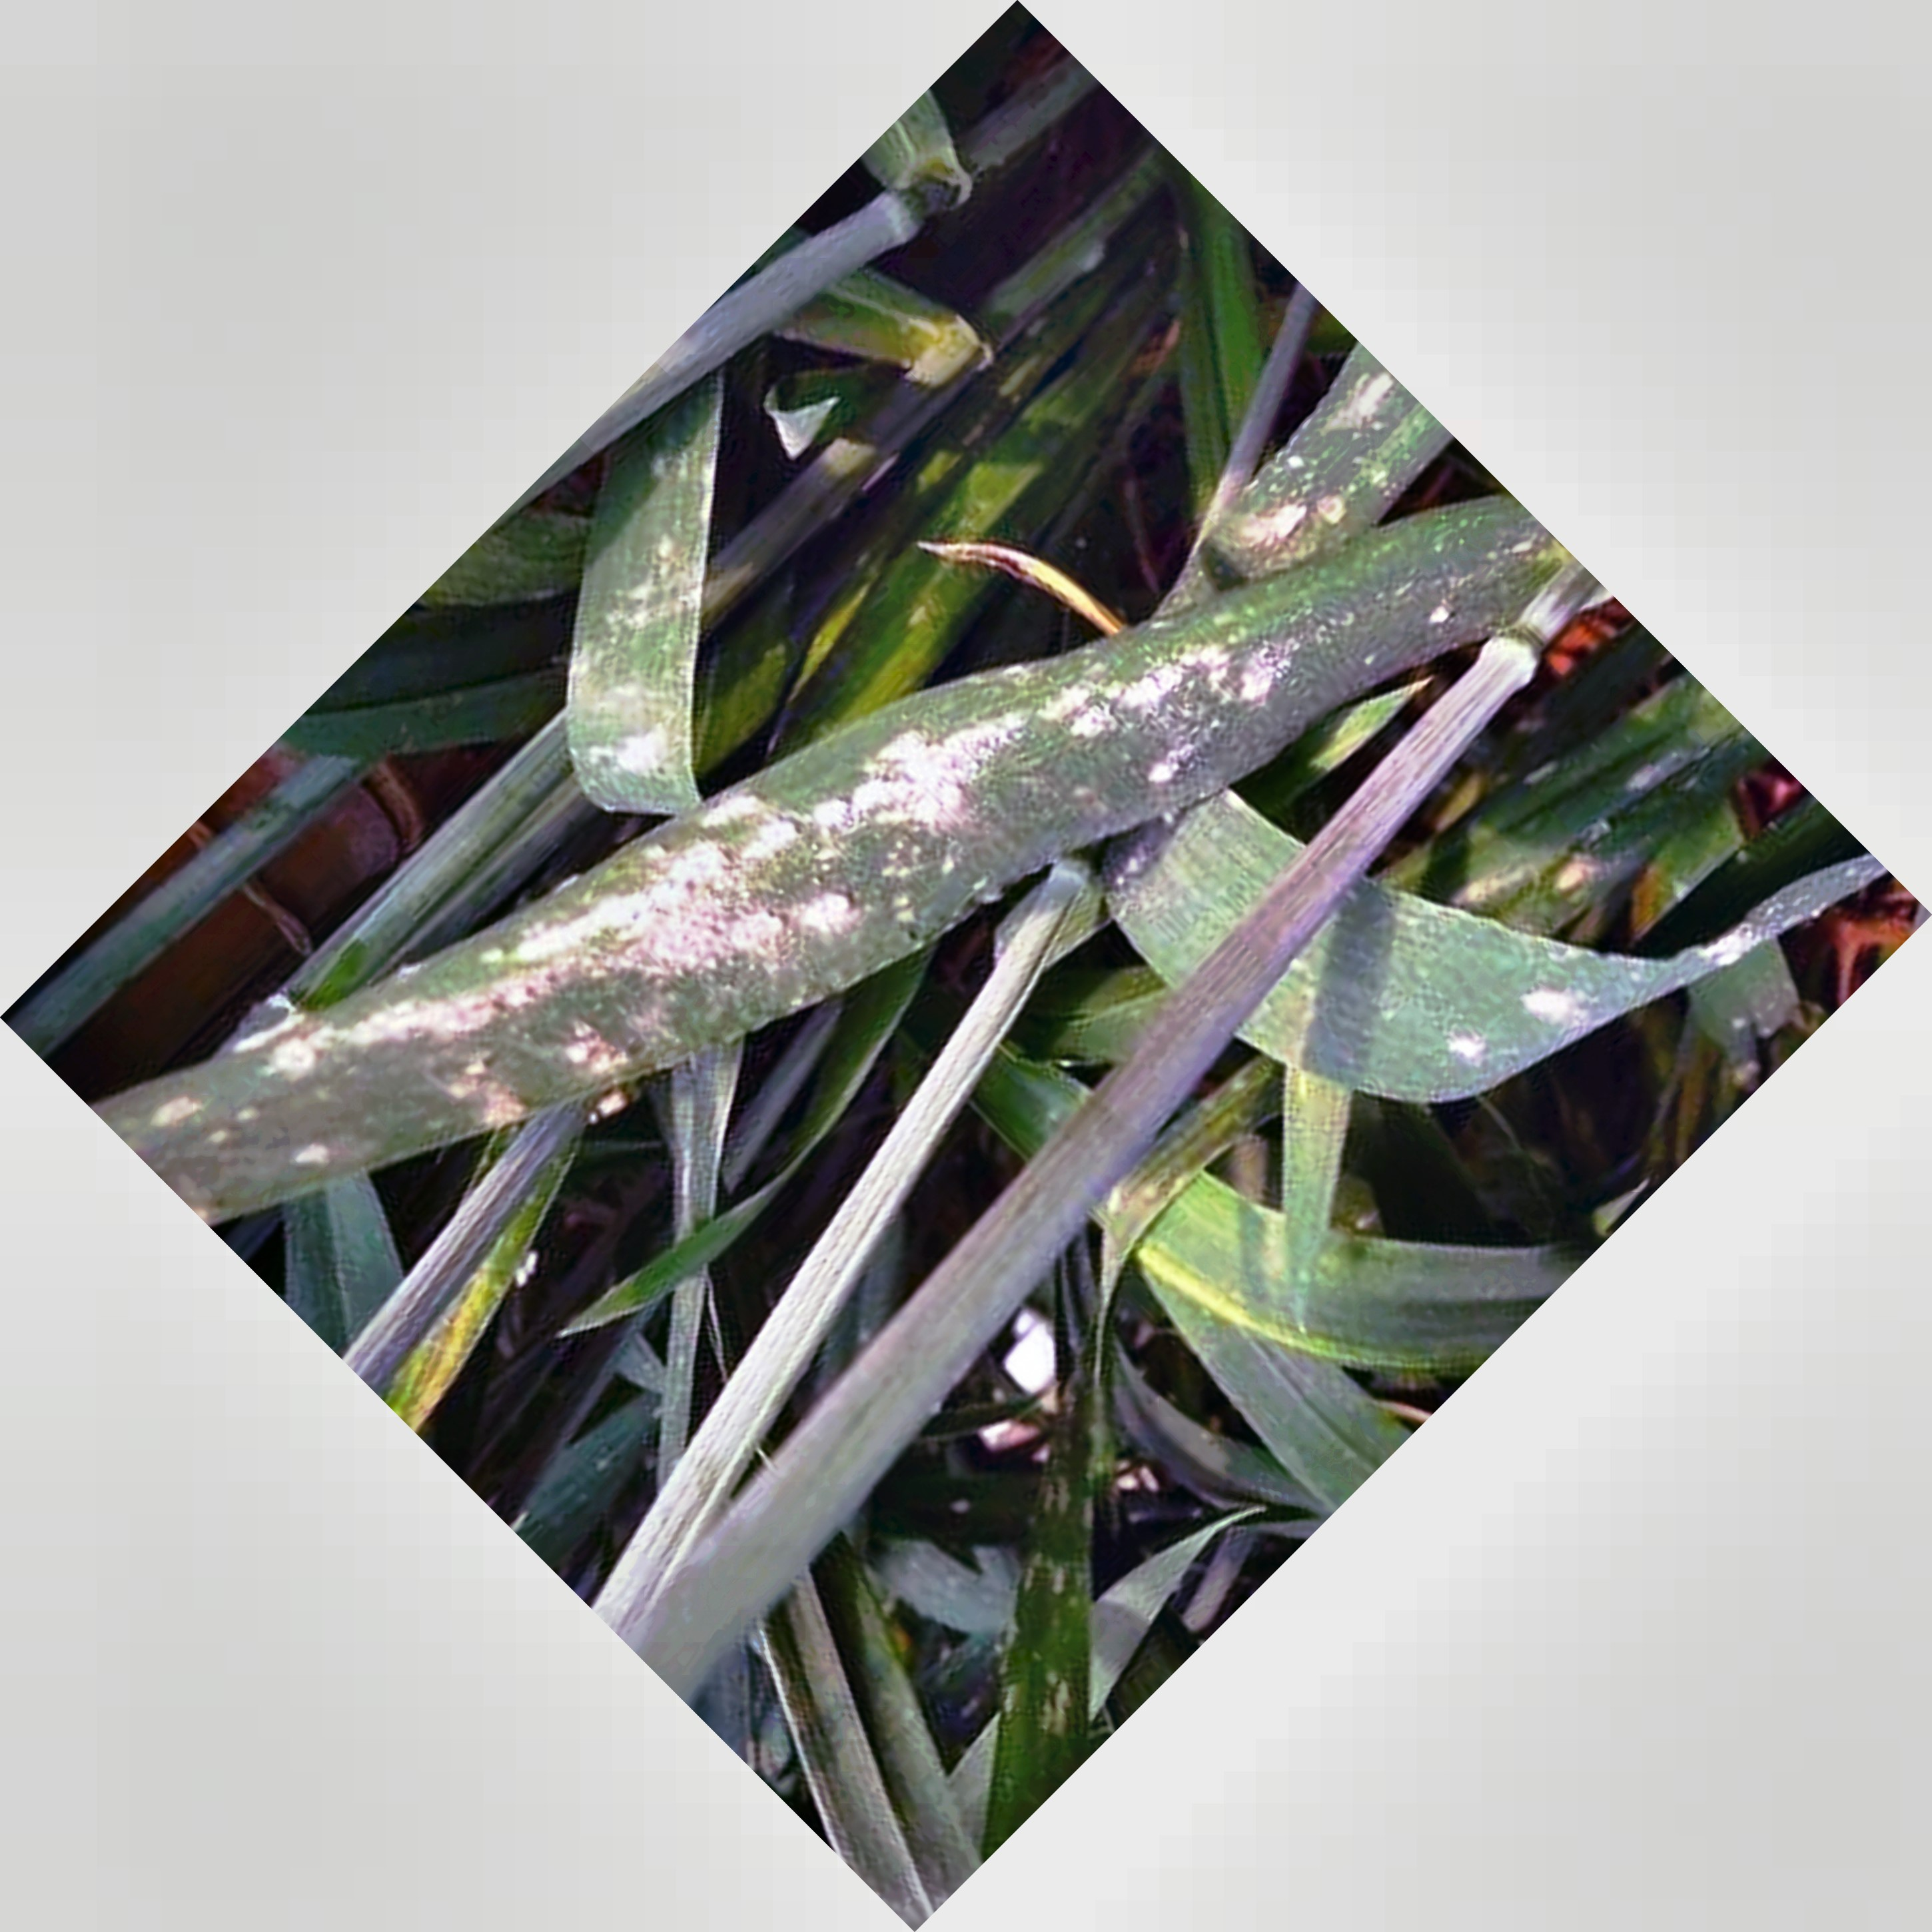Powdery Mildew: (287, 633, 1302, 1143)
